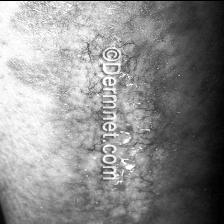Unclassified: (7, 0, 158, 80)
